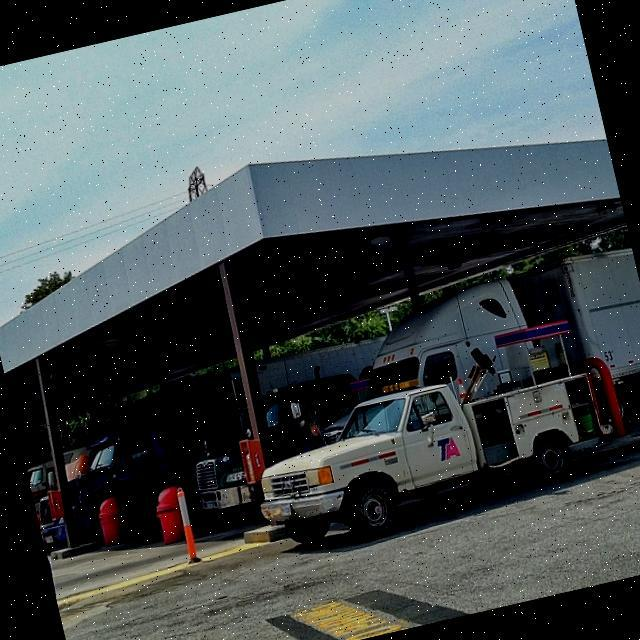fire_hydrant: (94, 494, 129, 546)
